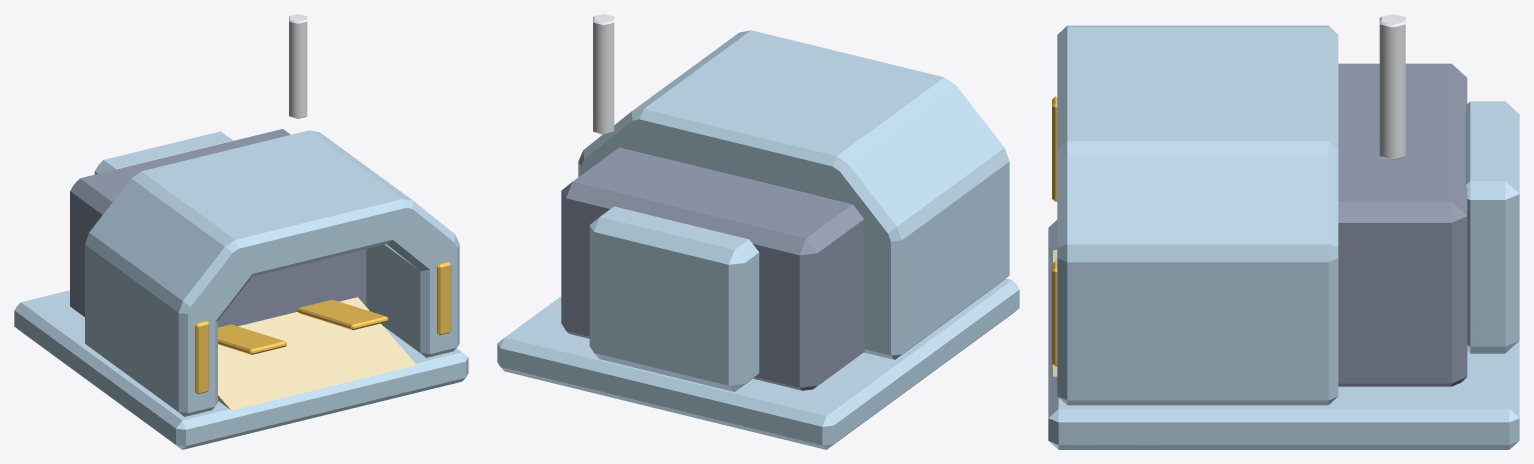
File: R4X_GroundDroneDeployer_LOD1.glb
3 renders of one model, left to right at view 1: azimuth 30°, elevation 25°; view 2: azimuth 150°, elevation 25°; view 3: azimuth 270°, elevation 25°, orthographic. The views are drawn at different scales.
Visible parts, largest first — view 1: R4X_GroundDroneDeployer_LOD1; view 2: R4X_GroundDroneDeployer_LOD1; view 3: R4X_GroundDroneDeployer_LOD1.
Part boxes in pixels (bbox=[...]): R4X_GroundDroneDeployer_LOD1: bbox=[14, 14, 468, 449]; R4X_GroundDroneDeployer_LOD1: bbox=[497, 14, 1019, 449]; R4X_GroundDroneDeployer_LOD1: bbox=[1048, 14, 1519, 449].
Size of the model in its own units: 0.52 by 0.4875 by 0.52.
